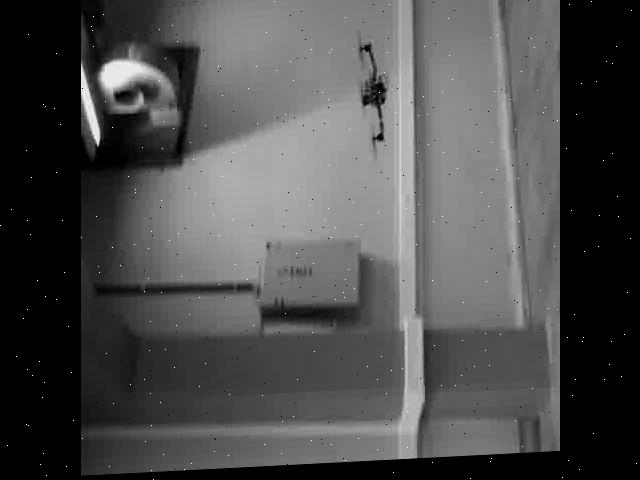drone: (353, 39, 391, 159)
